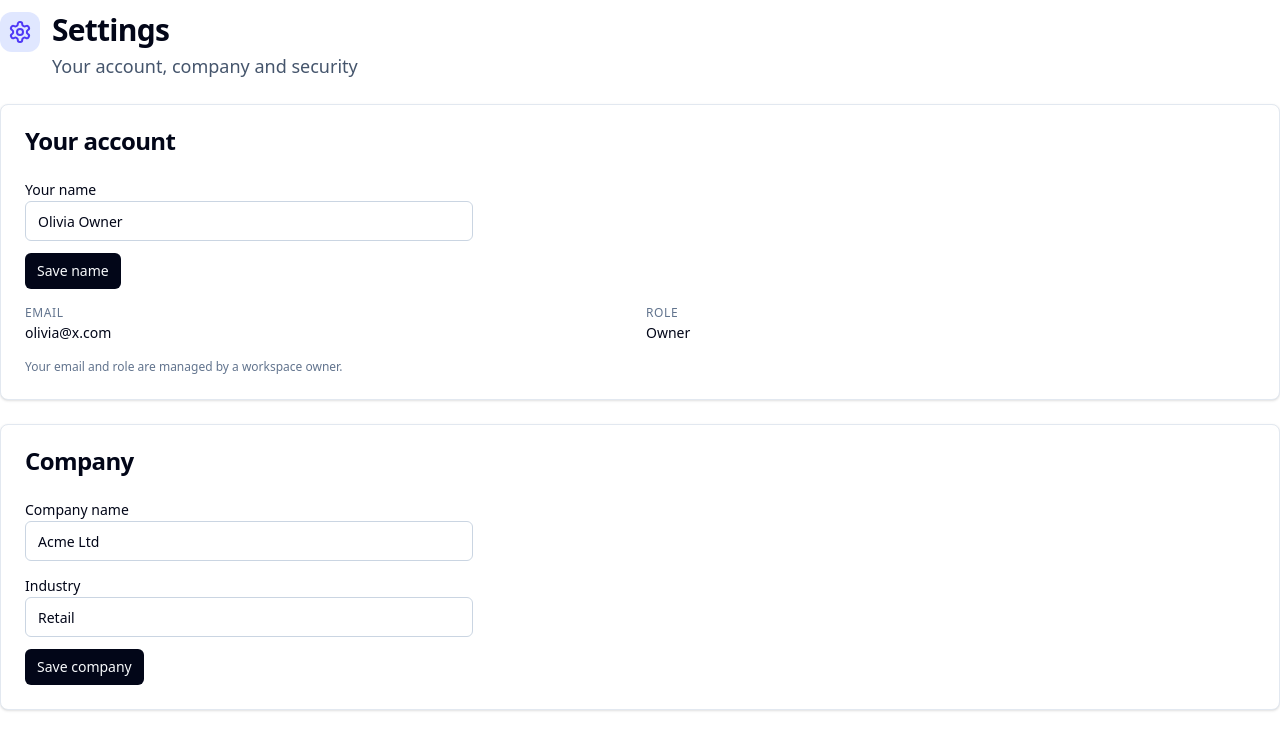
Test: SettingsPage: company › checks the fields and shows server errors
Replace the text in the field labelled "Company name" with "A" at (249, 541), box [25, 521, 473, 561]
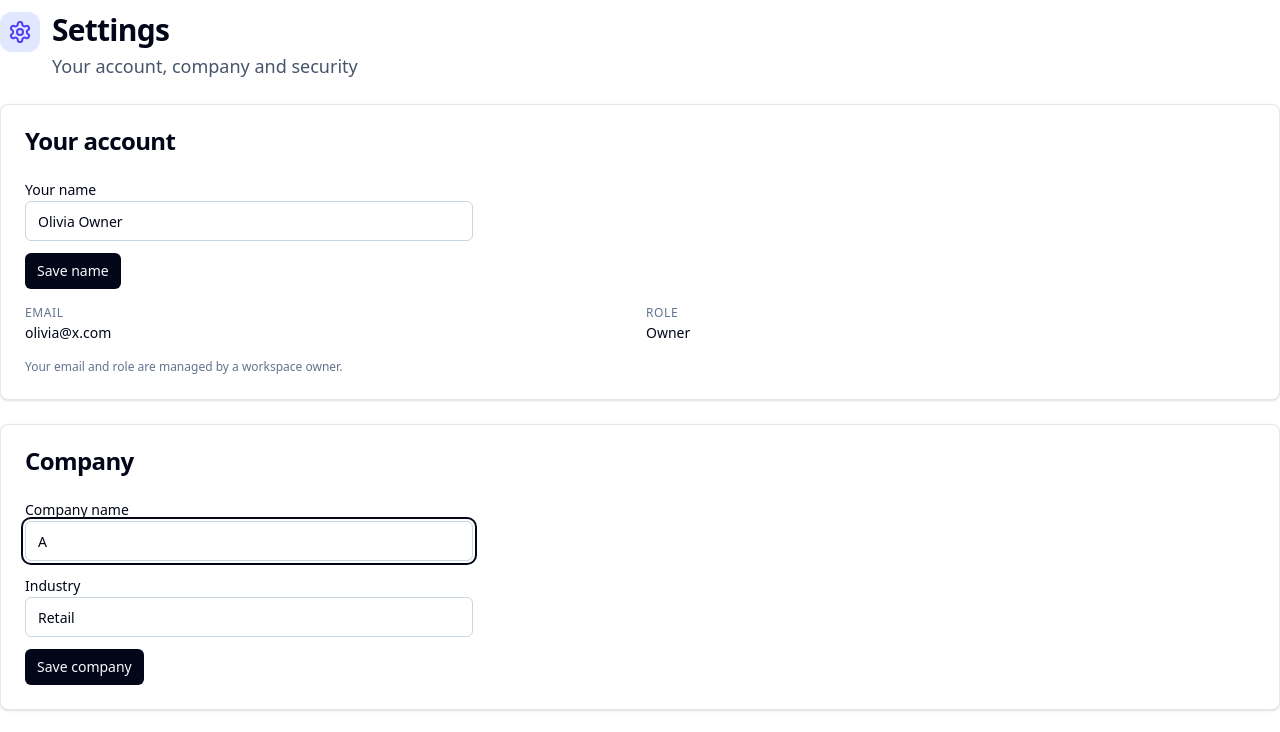
Click the button "Save company" at (84, 667), box [25, 649, 144, 685]
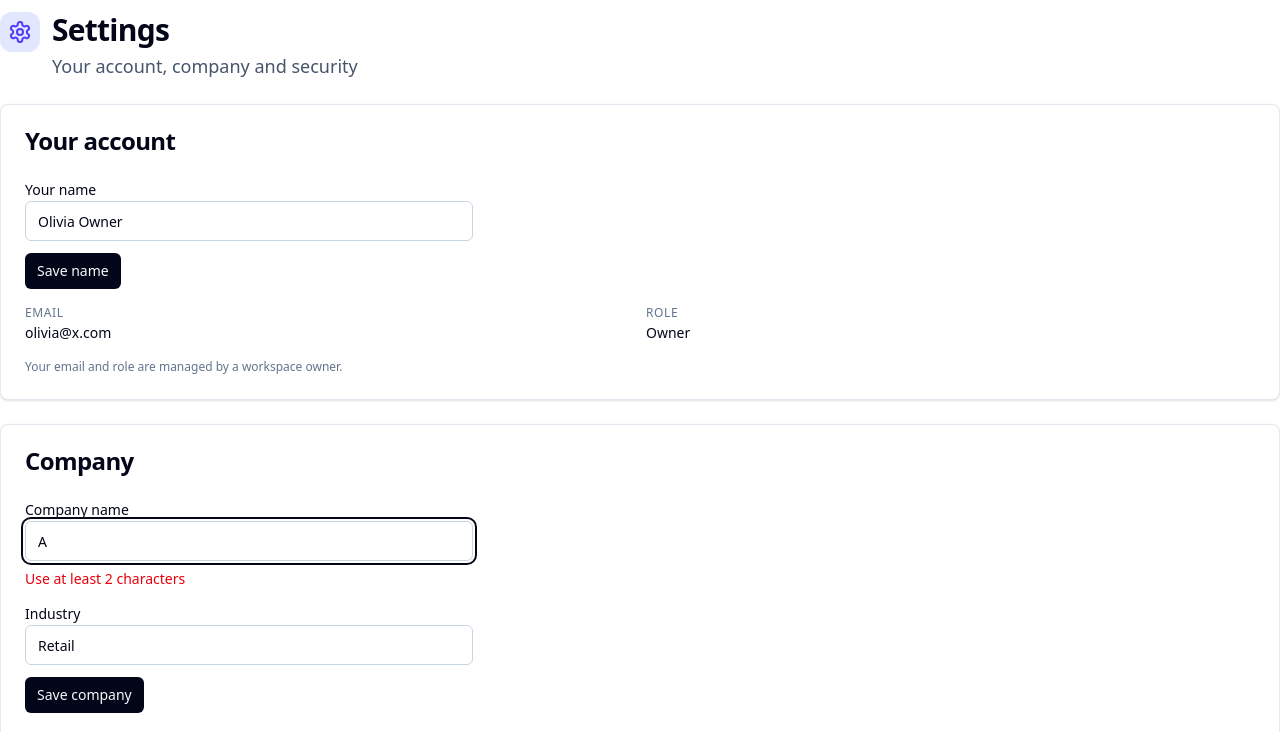
Type "cme" into the field labelled "Company name" at (249, 541), box [25, 521, 473, 561]
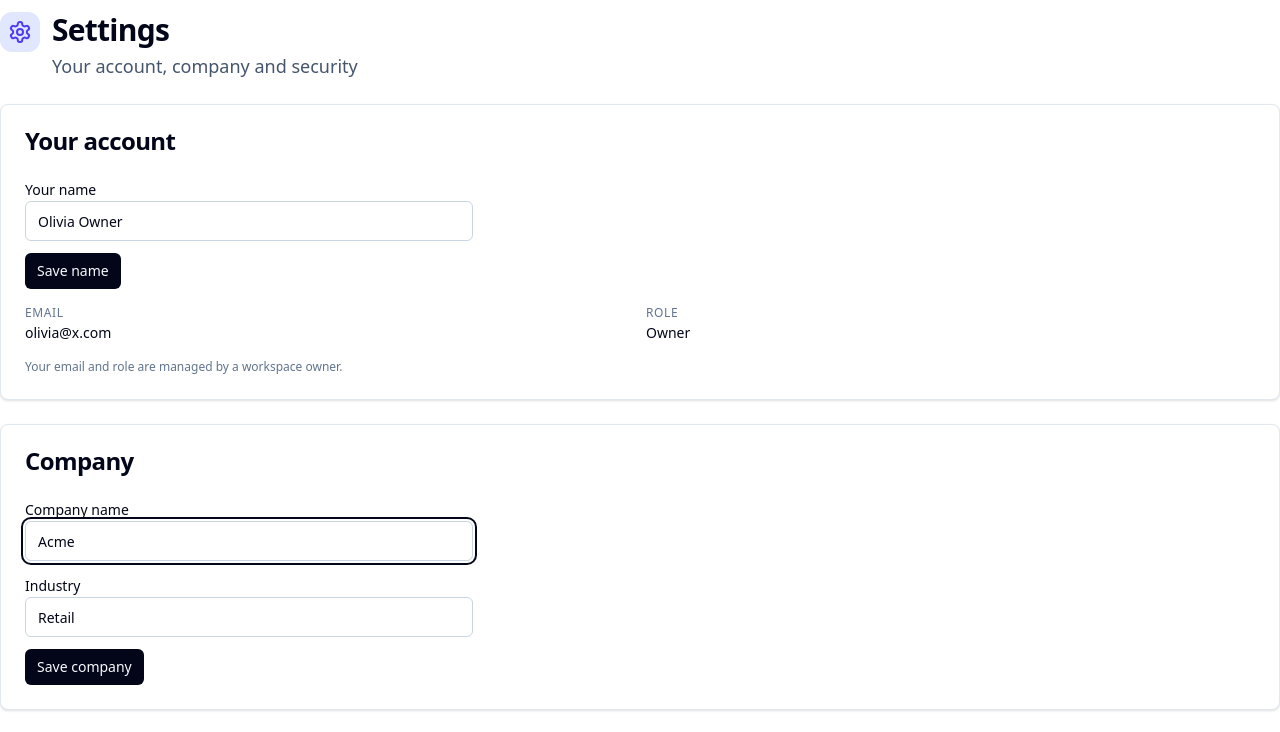
Click the button "Save company" at (84, 667), box [25, 649, 144, 685]
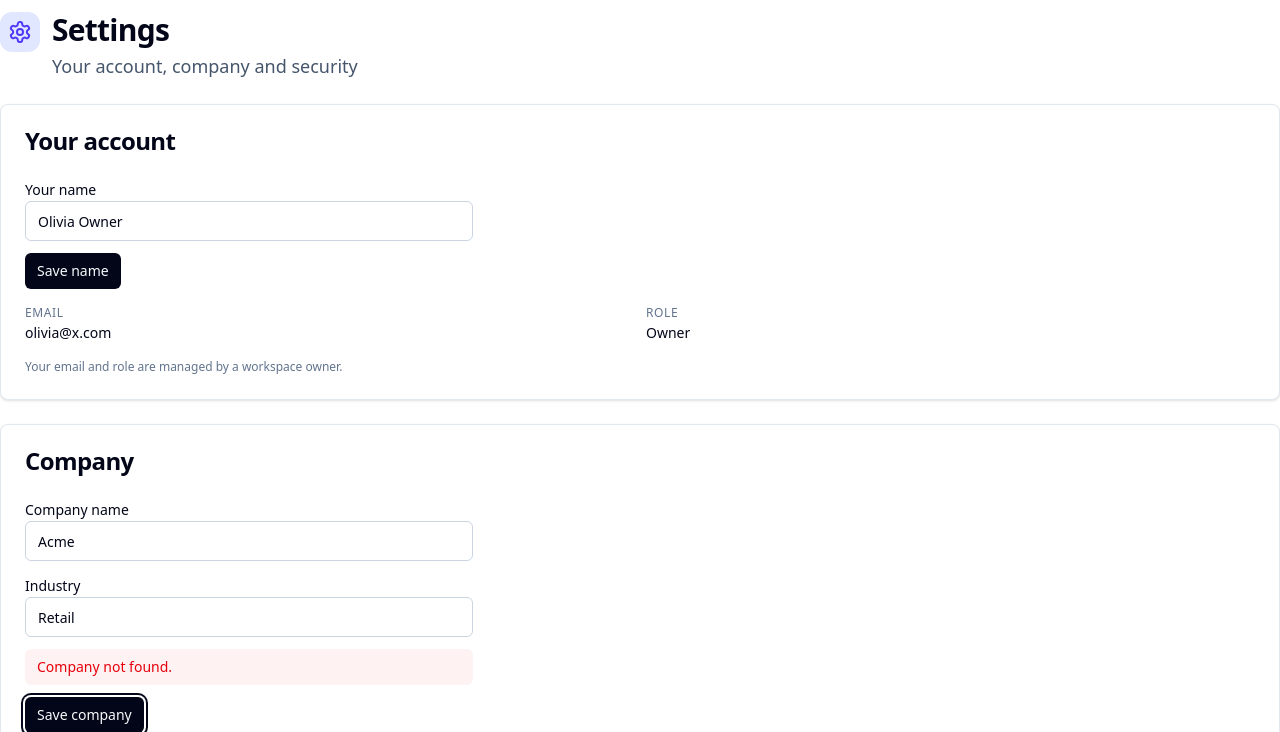
expect the text "Company not found." is shown: met, box [25, 649, 473, 685]
